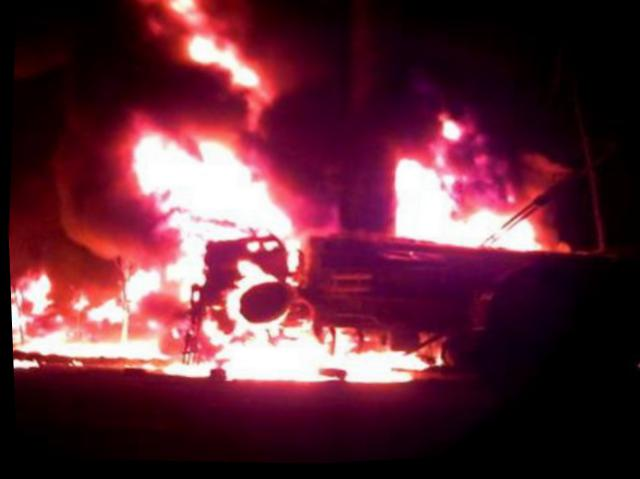fire: (3, 81, 580, 423), (125, 0, 286, 99)
